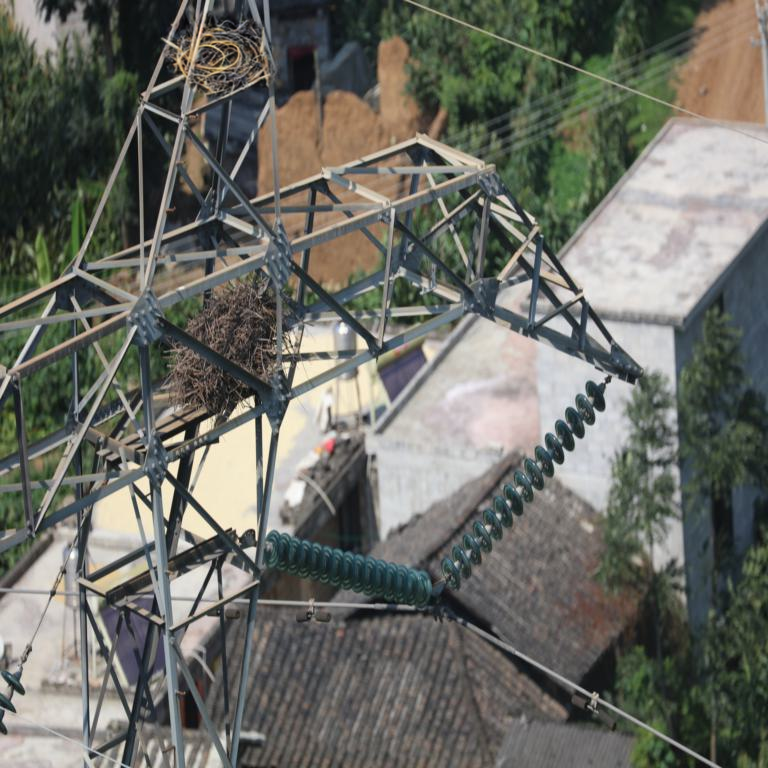nest: (181, 290, 281, 404), (178, 20, 268, 98)
